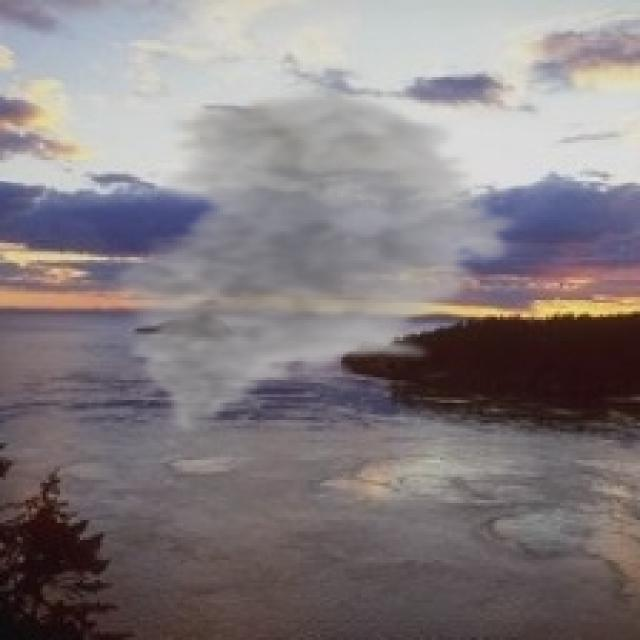Smoke: (100, 86, 526, 437)
